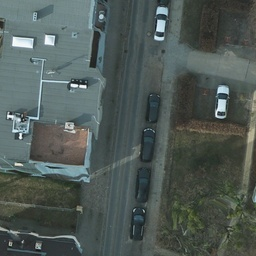car: (137, 128, 154, 163), (152, 8, 170, 41), (133, 166, 149, 202), (212, 85, 229, 118), (129, 207, 145, 241), (146, 89, 159, 125)
